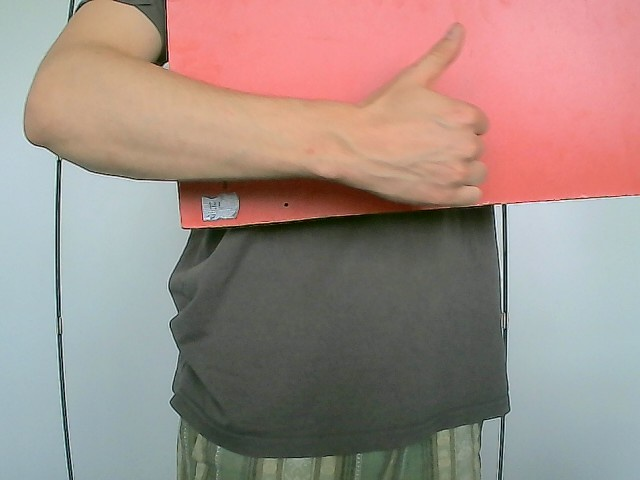up: (338, 21, 492, 209)
